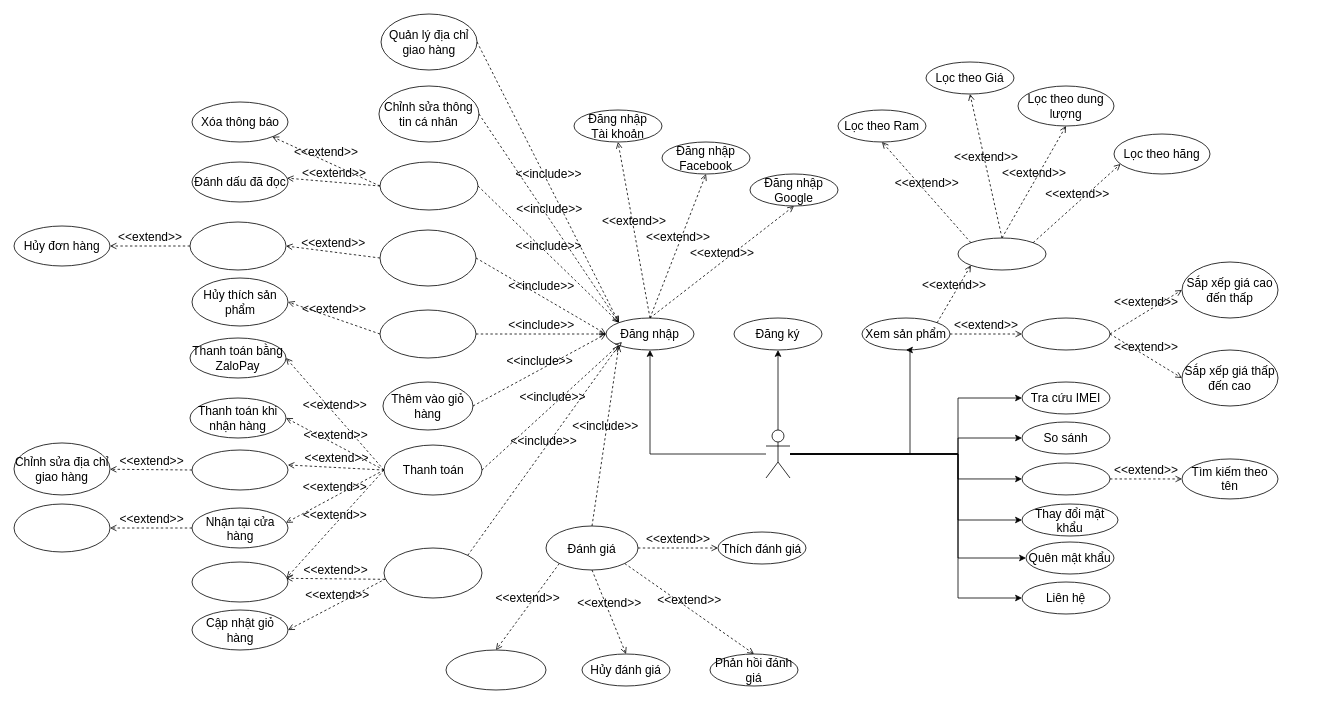
This 1326x704 diagram has some shape labels left out. The centre of each missing label's shape, as x and y in pixels:
"Chỉnh sửa đánh giá" belongs at point 495,669.
"Chọn địa chỉ cửa hàng" belongs at point 61,527.
"Giao hàng tận nơi" belongs at point 239,469.
"Lọc" belongs at point 1001,253.
"Người dùng" belongs at point 777,453.
"Sắp xếp" belongs at point 1065,333.
"Sử dụng voucher" belongs at point 239,581.
"Theo dõi đơn hàng" belongs at point 237,245.
"Thích sản phẩm" belongs at point 427,333.
"Tìm kiếm" belongs at point 1065,478.
"Xem giỏ hàng" belongs at point 432,572.
"Xem lịch sử mua hàng" belongs at point 427,257.
"Xem thông báo" belongs at point 428,185.
